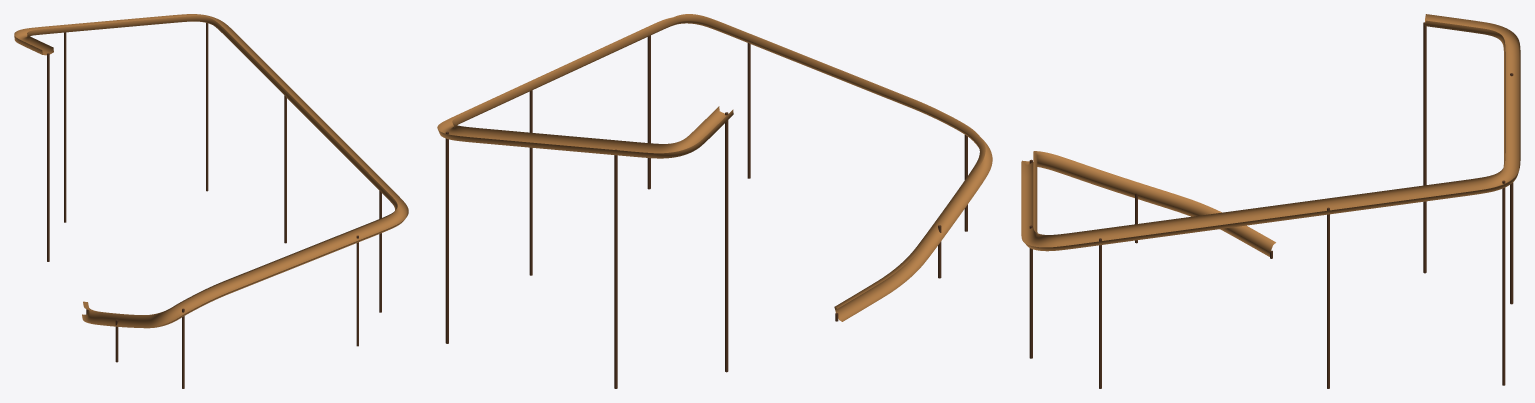
File: tobogan.glb
3 views of the same model, side by side, from view 1: azimuth 30°, elevation 25°; view 2: azimuth 150°, elevation 25°; view 3: azimuth 270°, elevation 25° (orthographic). The views are drawn at different scales.
Visible parts, largest first — view 1: tobogan, tobogan-postes; view 2: tobogan, tobogan-postes; view 3: tobogan, tobogan-postes.
Part boxes in pixels (x1=…): tobogan: x1=14, y1=14, x2=408, y2=328; tobogan-postes: x1=47, y1=23, x2=381, y2=388; tobogan: x1=437, y1=14, x2=992, y2=321; tobogan-postes: x1=445, y1=35, x2=967, y2=388; tobogan: x1=1021, y1=14, x2=1520, y2=256; tobogan-postes: x1=1029, y1=22, x2=1513, y2=388.
Size of the model in its own units: 16.31 by 12.68 by 22.47.
